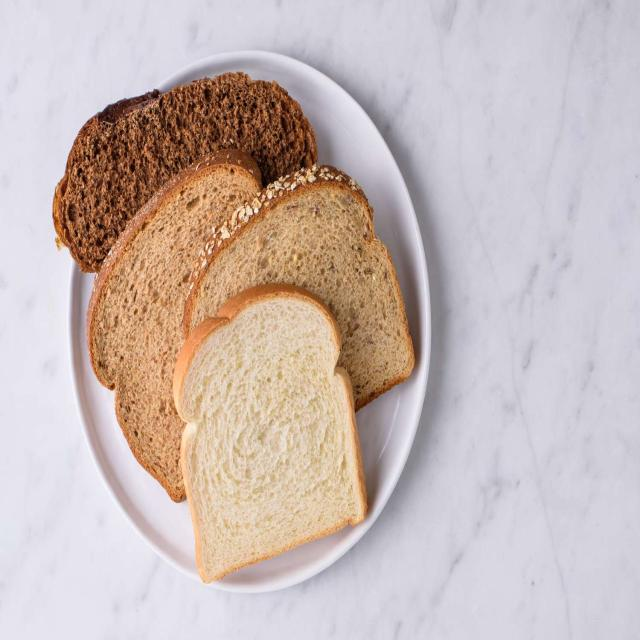Bread: (178, 147, 425, 432), (82, 150, 265, 497), (182, 285, 372, 593), (49, 70, 324, 276)
